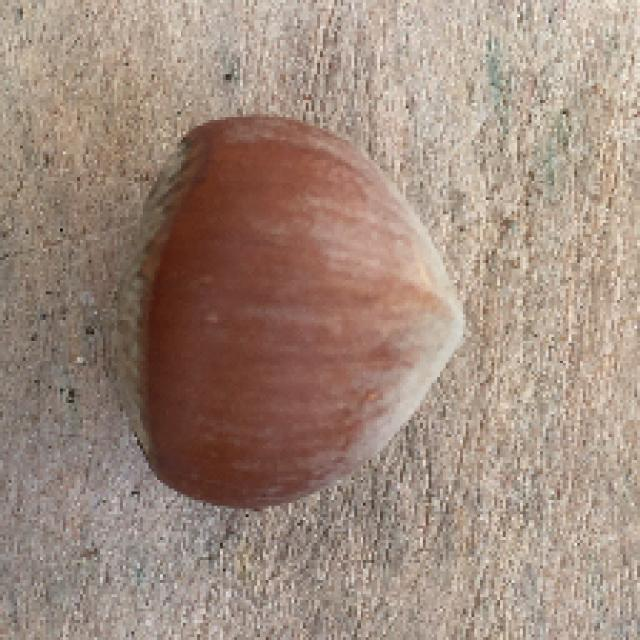QualityHazelnut: (107, 112, 466, 510)
